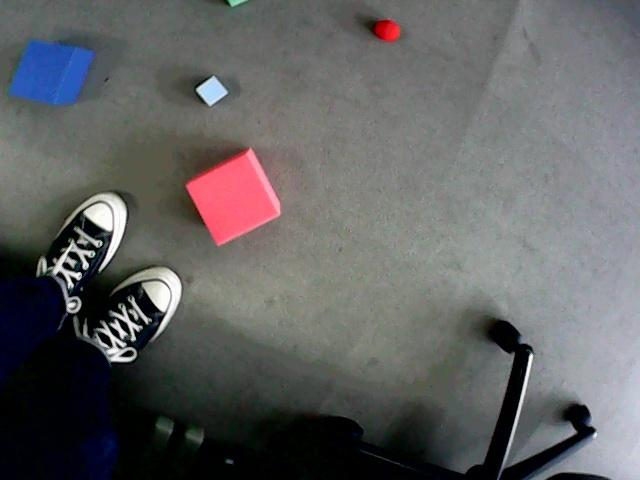blue_block: (9, 40, 94, 104), (196, 76, 228, 106)
red_block: (186, 149, 281, 245)
